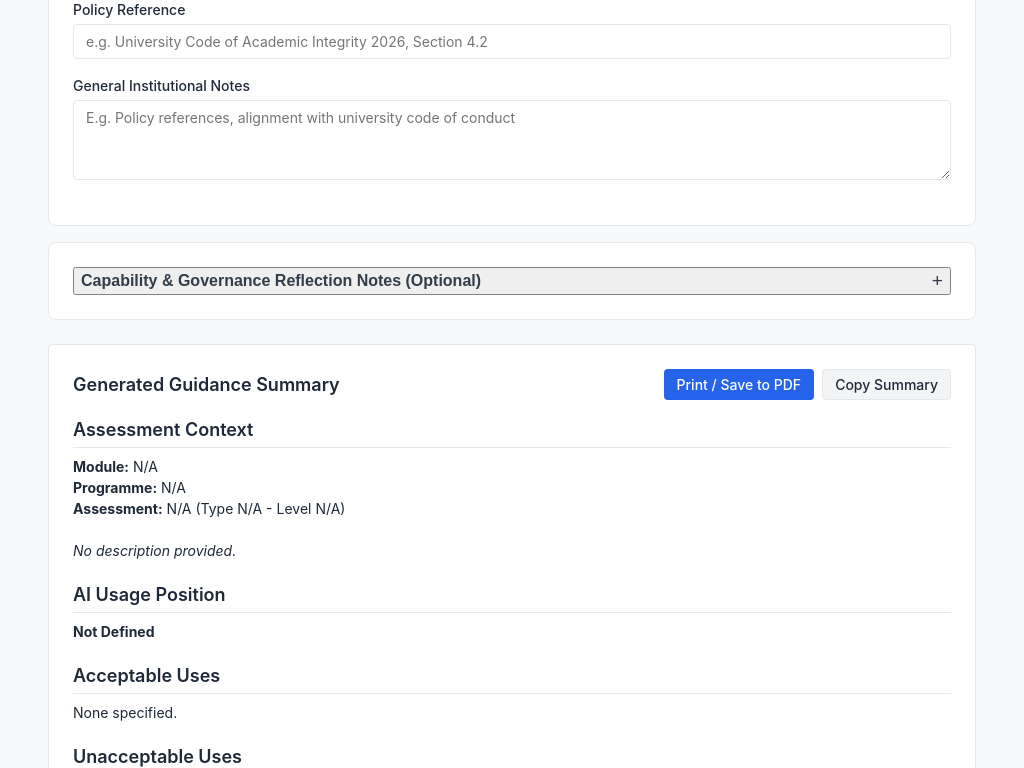
Test case: Print / PDF Output & Summary Reliability Suite › Clipboard Copying & Feedback › handles clipboard failure gracefully and presents failure feedback
(page scrolled)
Click the button "Copy Summary" at (887, 385), box [822,369,951,400]
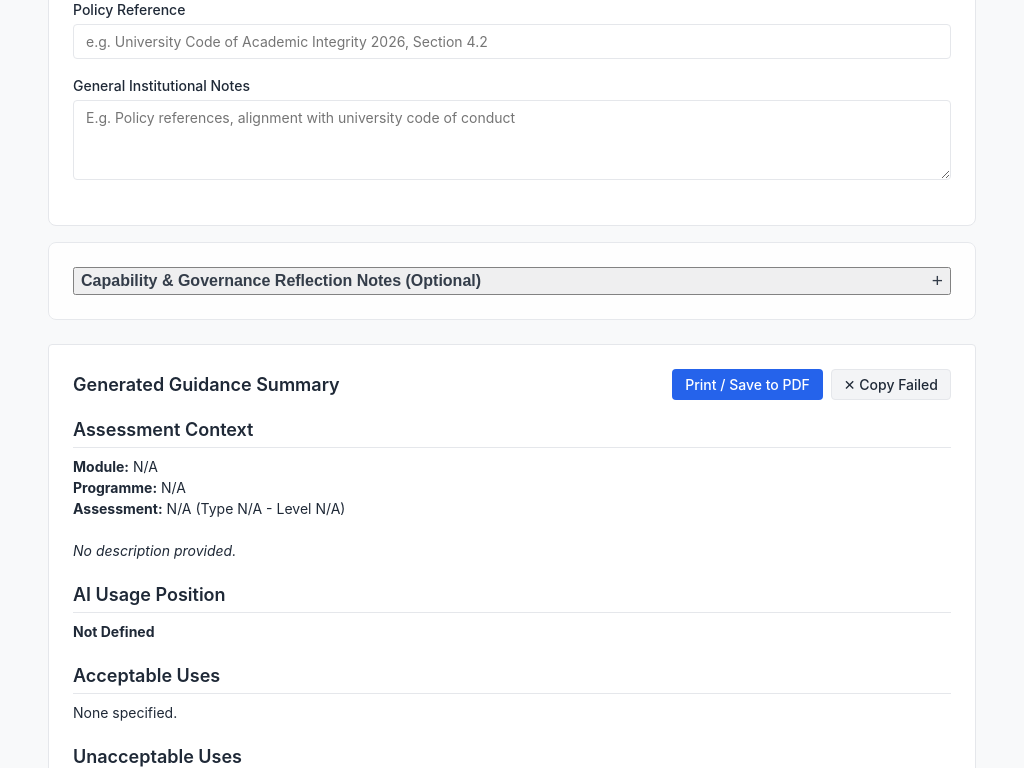
Expected: the button "✕ Copy Failed" is shown, [831,369,951,400]
